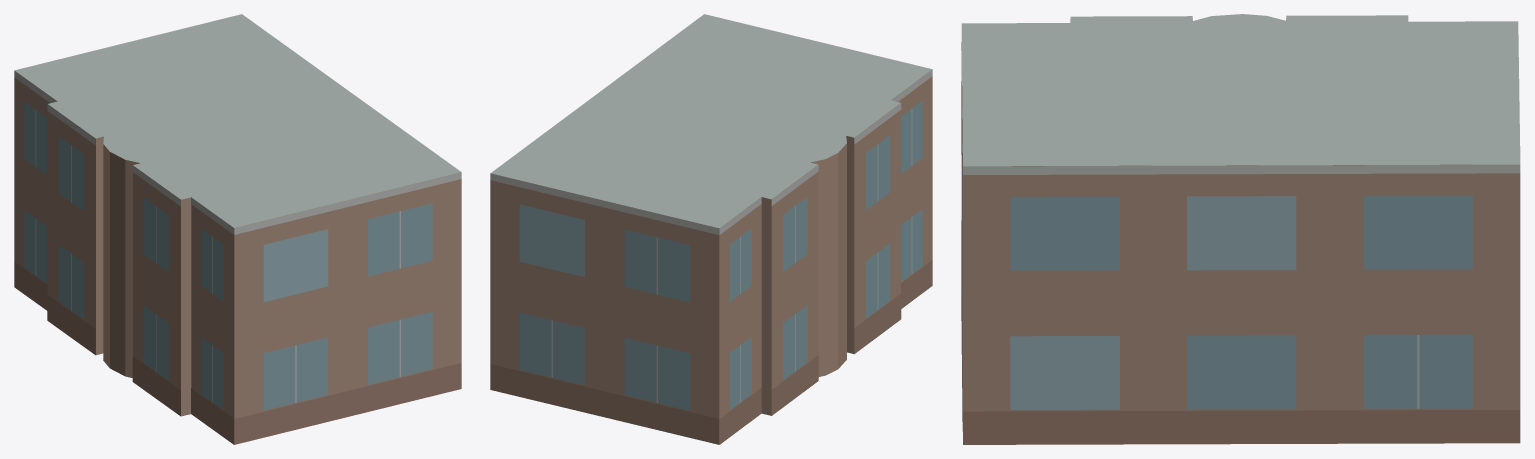
File: survey-upis-32637651.glb
The picture shows the model from 3 angles, left to right: view 1: azimuth 30°, elevation 25°; view 2: azimuth 150°, elevation 25°; view 3: azimuth 270°, elevation 25°; orthographic projection. The views are drawn at different scales.
Visible parts, largest first — view 1: survey-upis-32637651.tmp; view 2: survey-upis-32637651.tmp; view 3: survey-upis-32637651.tmp.
Part boxes in pixels (left/top/right/bottom): survey-upis-32637651.tmp: left=14, top=14, right=461, bottom=444; survey-upis-32637651.tmp: left=490, top=14, right=932, bottom=444; survey-upis-32637651.tmp: left=961, top=14, right=1520, bottom=444.
Size of the model in its own units: 9.03 by 7.7 by 14.01.
